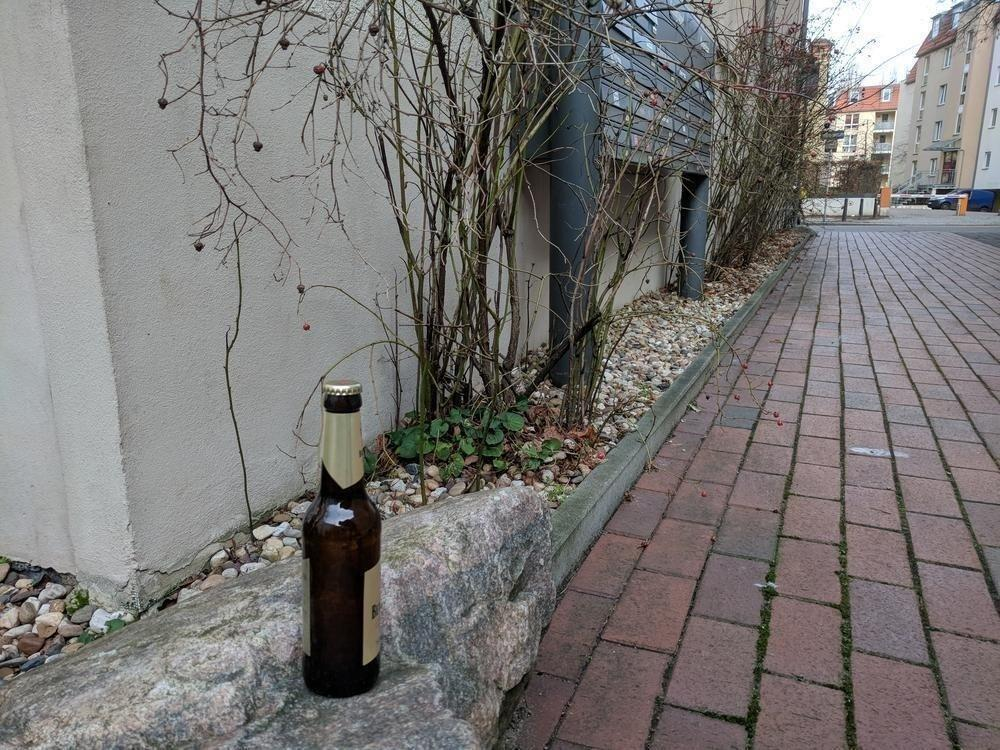bottle-glass: (300, 377, 383, 700)
